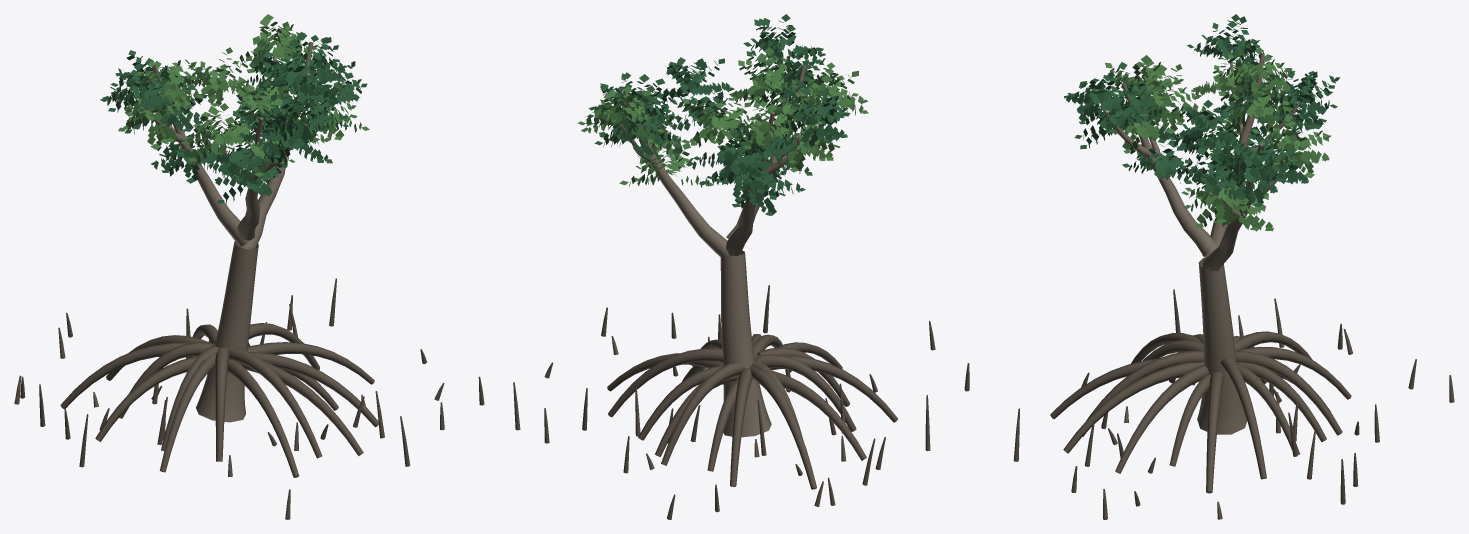
Rendered from env-mangrove.glb.
3 views of the same model, side by side, from view 1: azimuth 30°, elevation 25°; view 2: azimuth 150°, elevation 25°; view 3: azimuth 270°, elevation 25° (orthographic).
Parts seen in each view (by area): view 1: ENV_veg_mangrove-wood, ENV_veg_mangrove-canopy; view 2: ENV_veg_mangrove-wood, ENV_veg_mangrove-canopy; view 3: ENV_veg_mangrove-wood, ENV_veg_mangrove-canopy.
Boxes of the visible parts, x1,y1,x2,y2 form: ENV_veg_mangrove-wood: (14, 42, 484, 519); ENV_veg_mangrove-canopy: (100, 14, 369, 203); ENV_veg_mangrove-wood: (513, 57, 935, 519); ENV_veg_mangrove-canopy: (578, 14, 868, 215); ENV_veg_mangrove-wood: (964, 53, 1454, 519); ENV_veg_mangrove-canopy: (1064, 14, 1340, 231).
Size of the model in its own units: 5.43 by 5.14 by 6.24.
